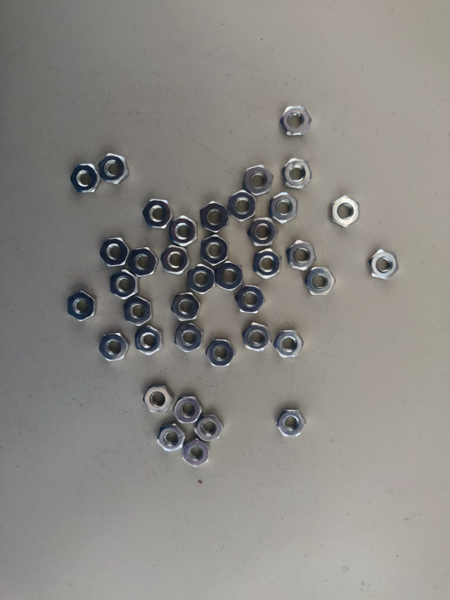nut: (228, 190, 259, 224), (69, 163, 101, 195), (98, 331, 130, 363), (280, 106, 312, 137), (97, 152, 128, 184), (168, 214, 199, 246), (143, 384, 174, 416), (368, 248, 398, 281), (160, 243, 190, 276), (244, 164, 275, 195), (330, 195, 360, 227), (306, 266, 336, 298), (286, 240, 316, 272), (252, 248, 282, 280), (248, 217, 278, 249), (269, 193, 299, 225), (199, 201, 229, 233), (127, 247, 157, 279), (110, 269, 140, 301), (100, 237, 130, 268), (142, 198, 172, 229), (65, 290, 95, 320), (282, 159, 312, 189), (195, 413, 225, 443), (182, 439, 212, 469), (156, 424, 186, 454), (173, 397, 203, 427), (273, 329, 303, 359), (206, 338, 236, 368), (241, 322, 271, 352), (235, 284, 265, 314), (124, 296, 154, 326), (171, 292, 201, 322), (187, 265, 217, 295), (213, 261, 243, 291), (277, 409, 306, 439), (174, 324, 204, 353), (133, 326, 162, 356), (200, 234, 229, 264)
